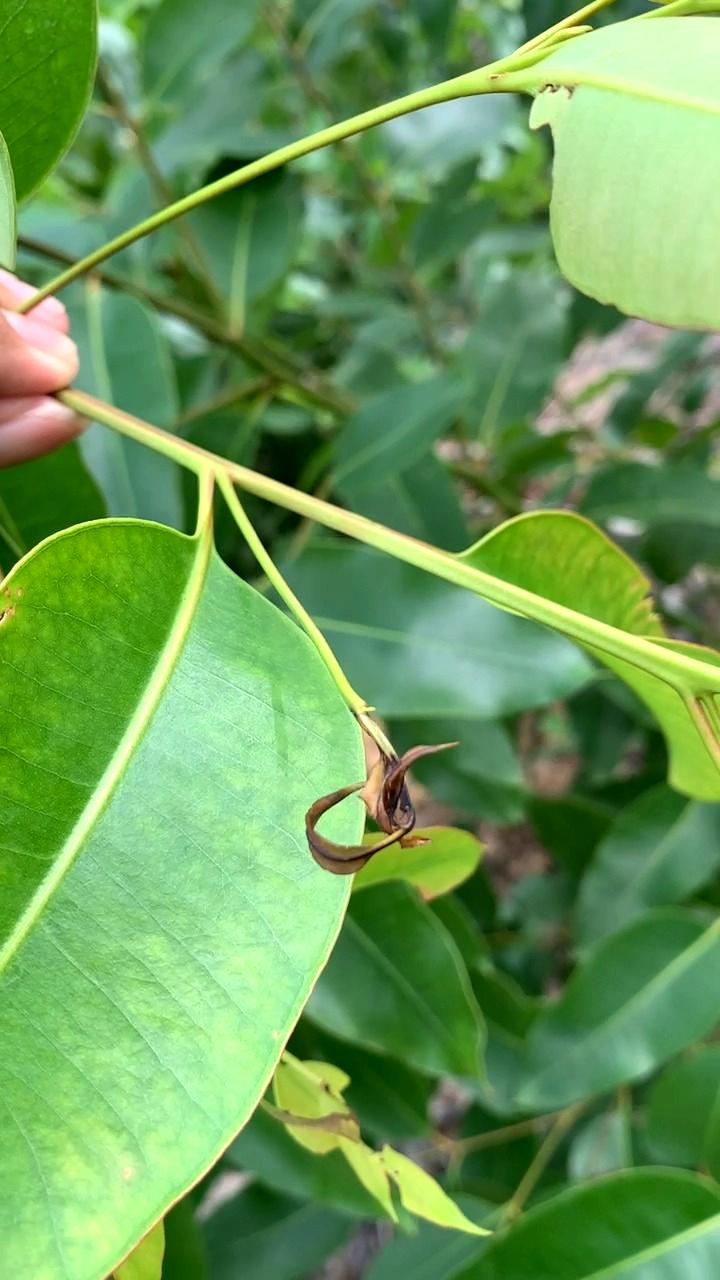Helopeltis-Withered Sprout: (308, 731, 457, 871)
